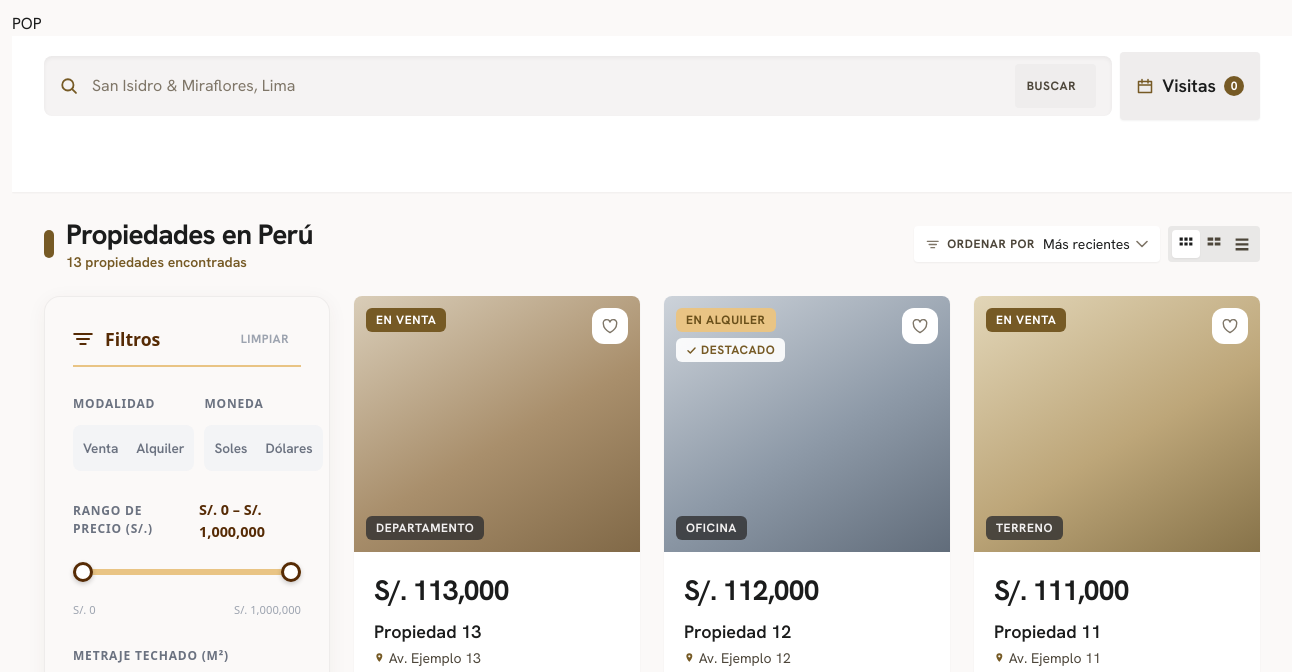
Test: PropertyList (integración del catálogo) › Búsqueda con debounce › no lanza una petición HTTP por carácter tipeado
expect the text "13 propiedades encontradas" is shown: met, box [66, 253, 247, 271]
Type "prop" into the search field named "Buscar propiedades" at coordinates (546, 86), box [90, 73, 1003, 99]
Wait 300 ms
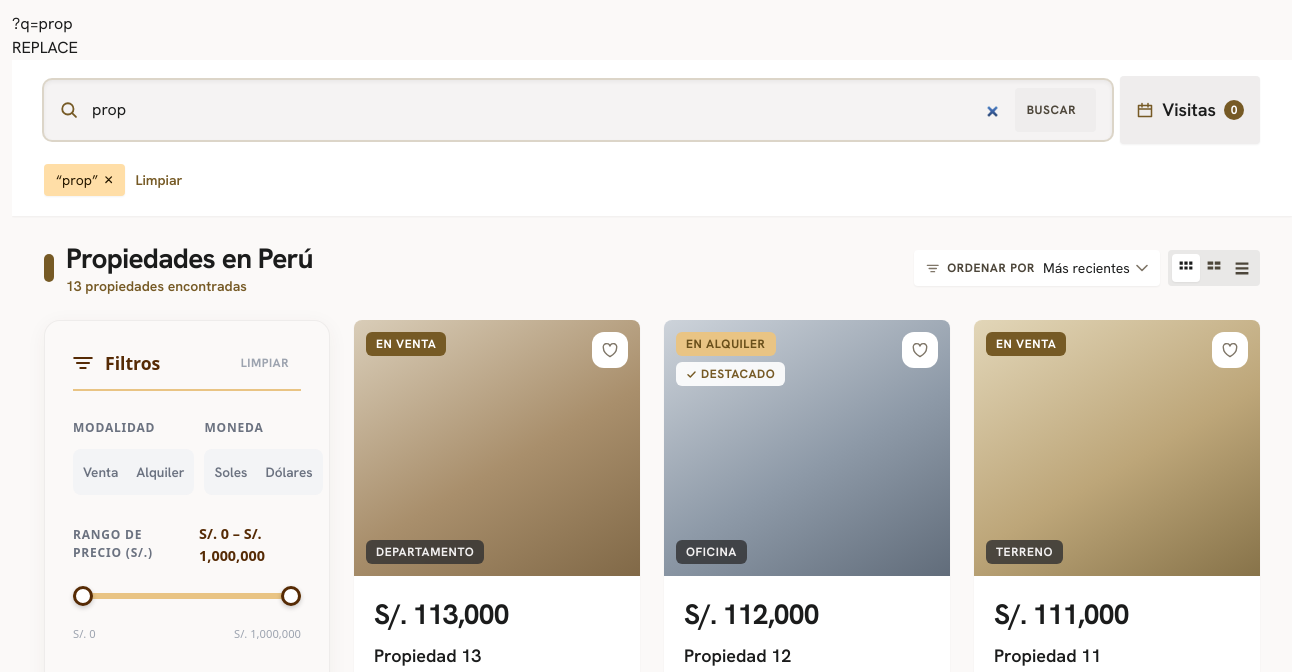
expect the text with test id "search" reads "?q=prop": met, box [12, 13, 73, 34]
